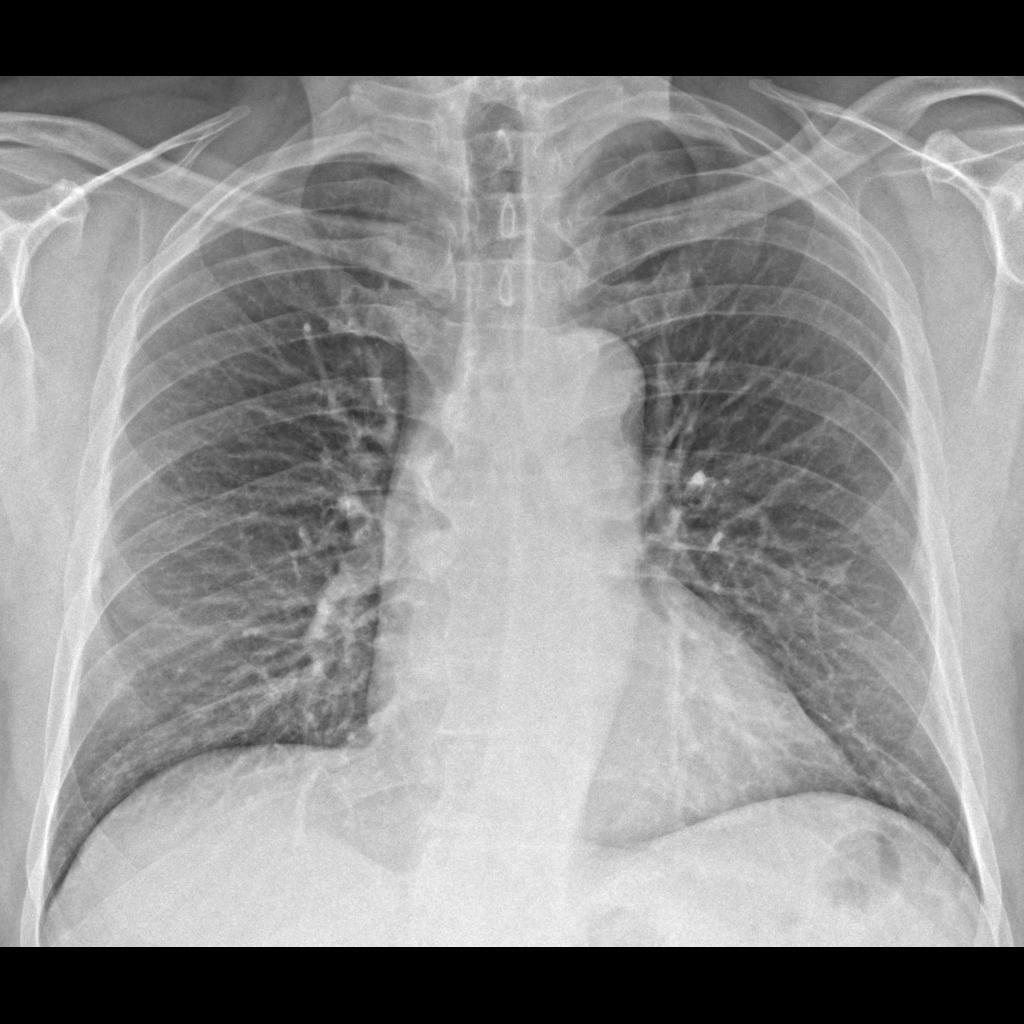Nodule: (814, 552, 853, 598)
